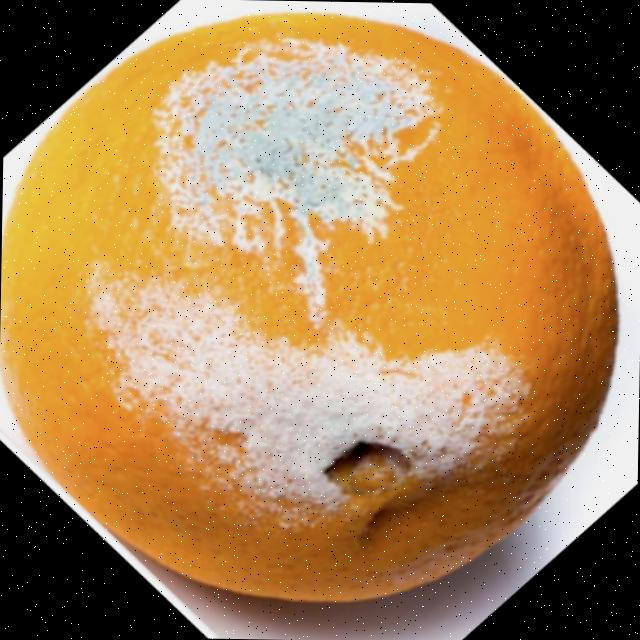Rotten: (0, 1, 626, 606)
